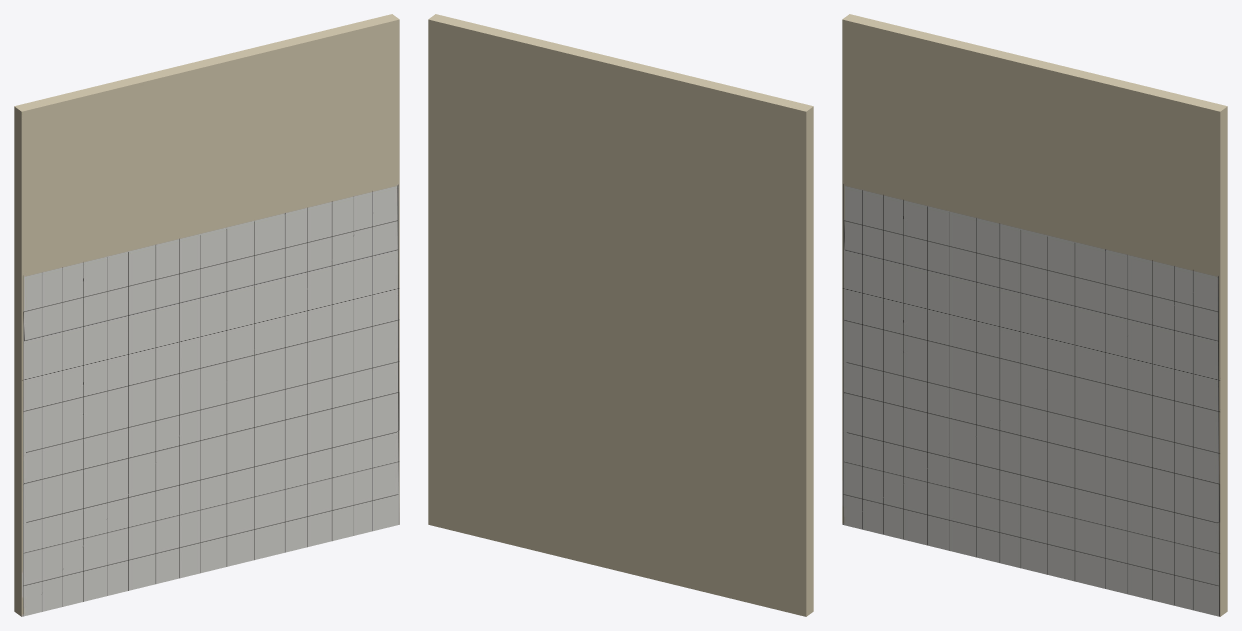
The model's file is Lab_Wall.fbx.
3 renders of one model, left to right at view 1: azimuth 30°, elevation 25°; view 2: azimuth 150°, elevation 25°; view 3: azimuth 330°, elevation 25°, orthographic.
Visible parts, largest first — view 1: Lab_wall; view 2: Lab_wall; view 3: Lab_wall.
Boxes of the visible parts, box(x1,y1,x2,y2) form: Lab_wall: box(14, 14, 399, 616); Lab_wall: box(428, 14, 813, 616); Lab_wall: box(842, 14, 1227, 616).
Size of the model in its own units: 553 by 706 by 19.06.
Materials: 1 (1 with a texture image).
